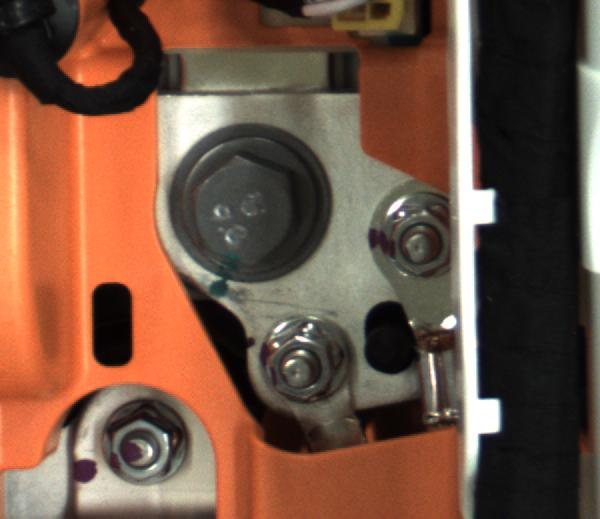nut_b: (176, 137, 329, 283)
screw_s: (243, 316, 347, 408), (91, 410, 179, 491), (375, 199, 451, 272)
